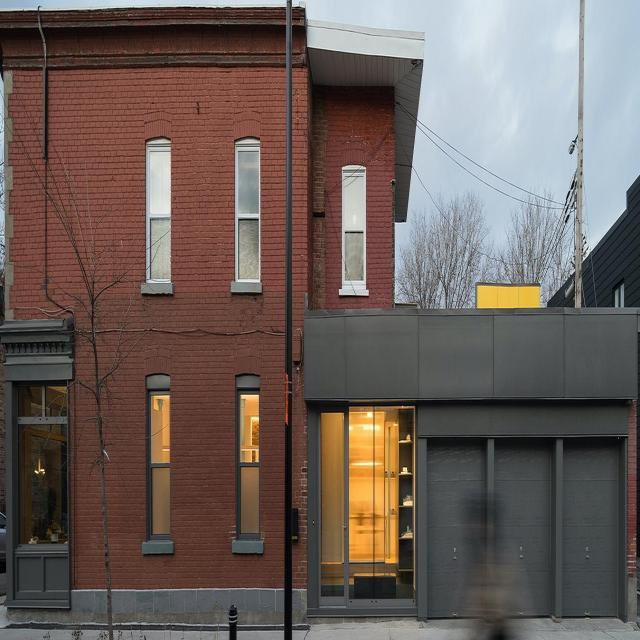door: (318, 405, 349, 614)
plant: (394, 184, 496, 305), (493, 178, 572, 306)
wall: (0, 4, 638, 631)
windows: (349, 404, 416, 604), (15, 383, 68, 543), (236, 138, 262, 279), (239, 385, 261, 536), (148, 144, 172, 282), (343, 166, 367, 290), (149, 392, 169, 534)
